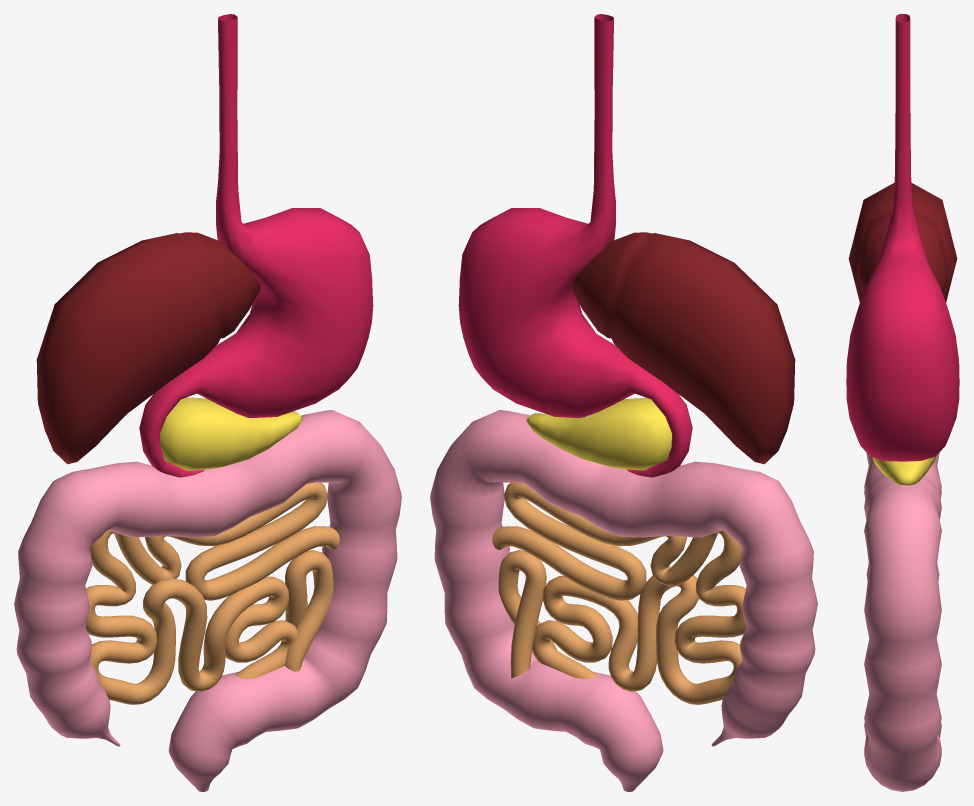
The model's file is human_digestive_system.glb.
3 renders of one model, left to right at view 1: azimuth 30°, elevation 25°; view 2: azimuth 150°, elevation 25°; view 3: azimuth 270°, elevation 25°, orthographic. The views are drawn at different scales.
Bounding box in the file's own units: 1.91 × 3.69 × 0.4844.
